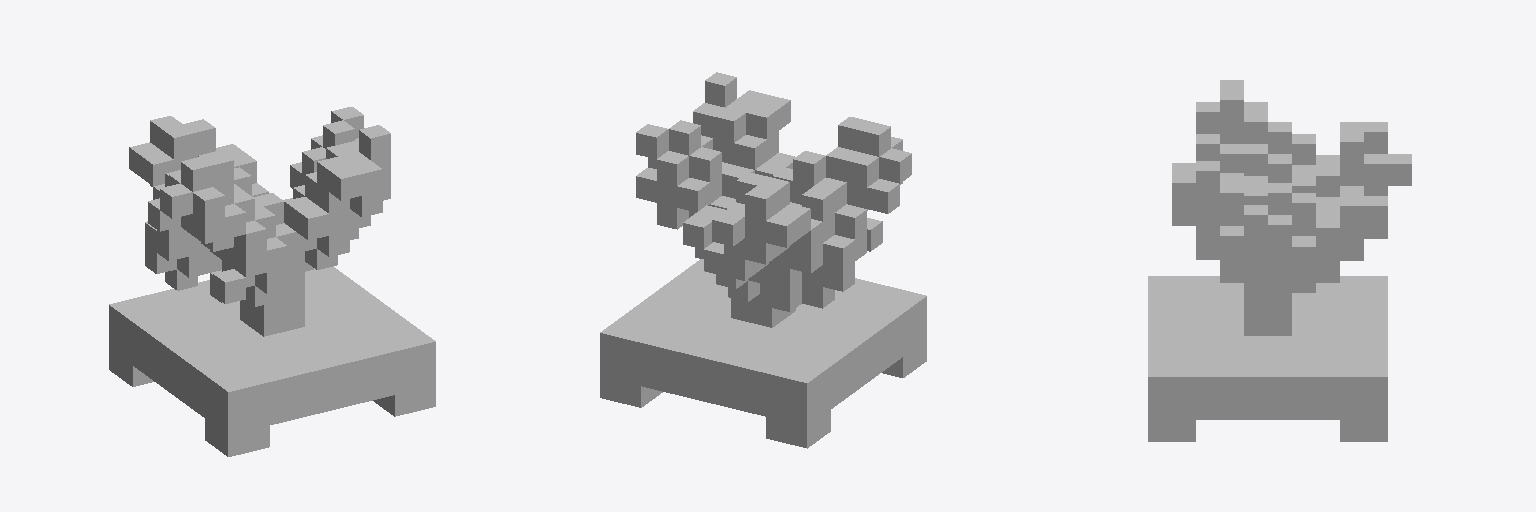
Rendered from Plant.obj.
3 renders of one model, left to right at view 1: azimuth 30°, elevation 25°; view 2: azimuth 150°, elevation 25°; view 3: azimuth 270°, elevation 25°, orthographic.
Parts seen in each view (by area): view 1: object 1; view 2: object 1; view 3: object 1.
Boxes of the visible parts, x1,y1,x2,y2 form: object 1: [109, 107, 435, 456]; object 1: [600, 72, 926, 448]; object 1: [1148, 80, 1411, 441].
Bounding box in the file's own units: 1.1 × 1.2 × 1.1.